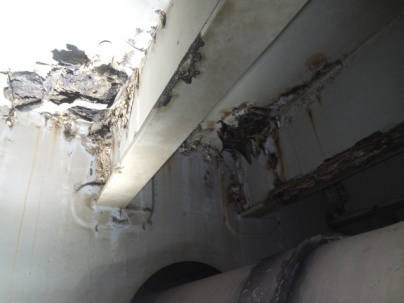corrosion: (9, 42, 145, 117), (216, 95, 288, 150), (71, 115, 123, 184), (166, 38, 214, 107), (298, 81, 335, 162), (285, 51, 342, 99), (248, 126, 291, 180), (208, 149, 243, 210), (136, 6, 183, 47)
